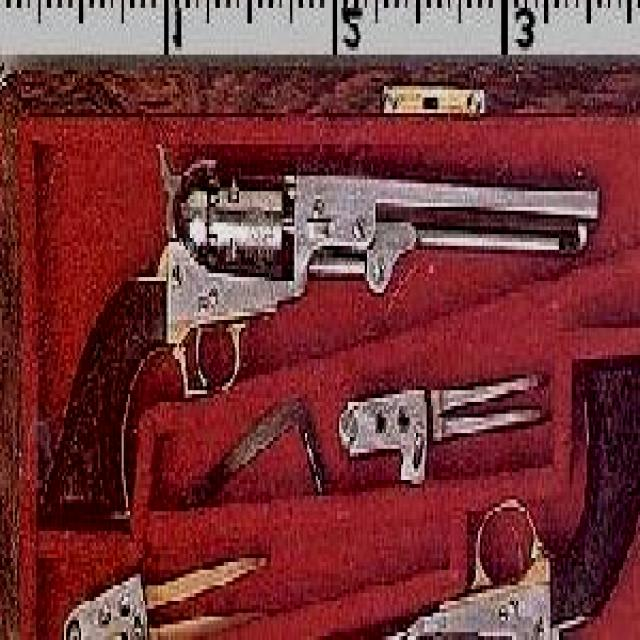pistol: (34, 140, 600, 523)
